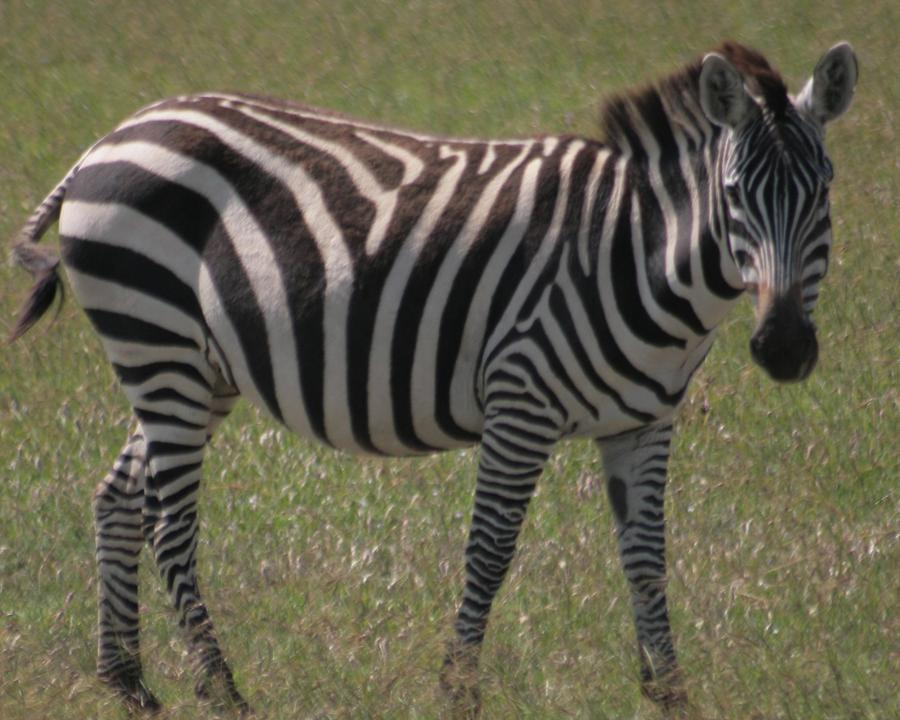zebra_plains: (89, 117, 647, 429)
